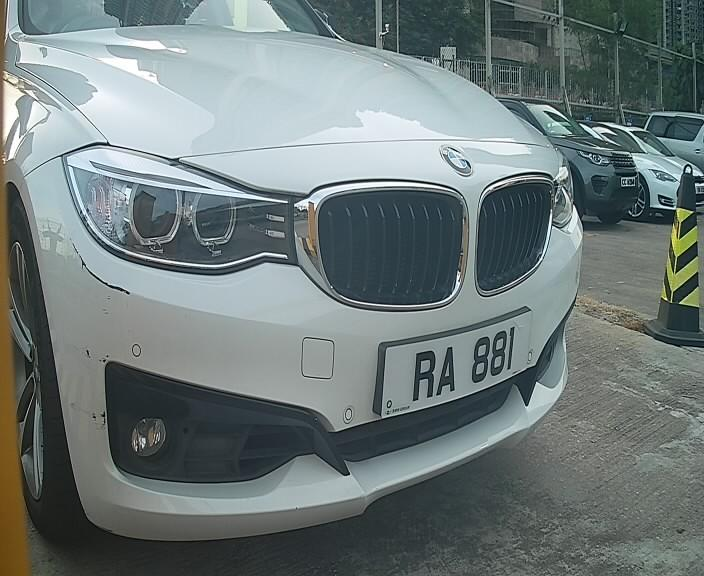privatecar: (19, 3, 598, 551)
